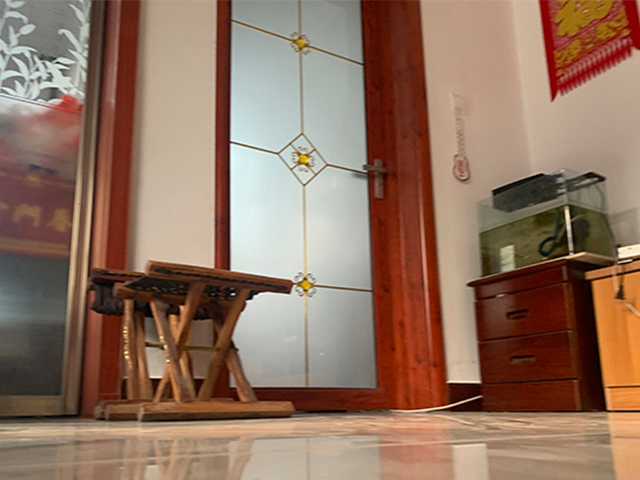cabinet: (467, 257, 609, 413)
stool: (87, 259, 296, 421)
wire: (388, 394, 484, 414)
